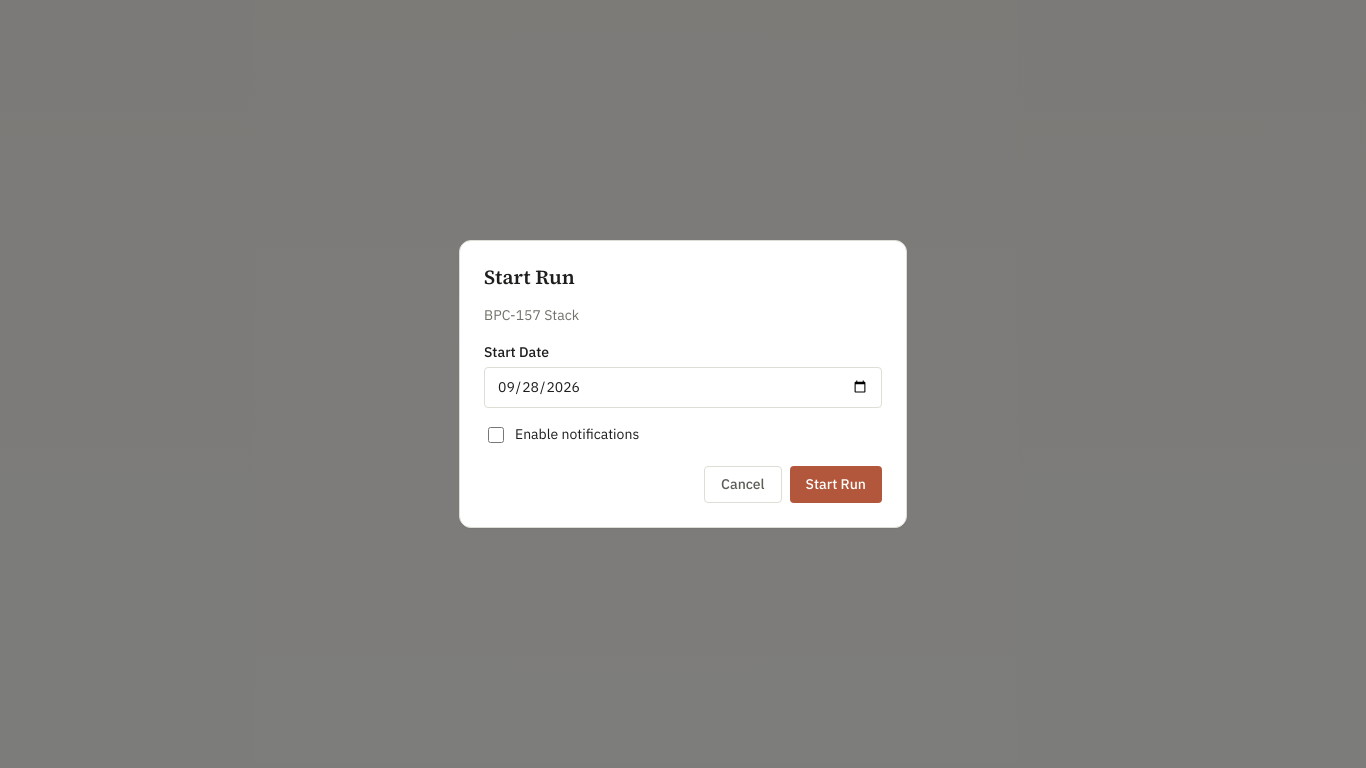
Scenario: StartRunModal › shows error on API failure
The width and height of the screenshot is (1366, 768).
Click the button "Start Run": (836, 484) x1=790 y1=466 x2=882 y2=503
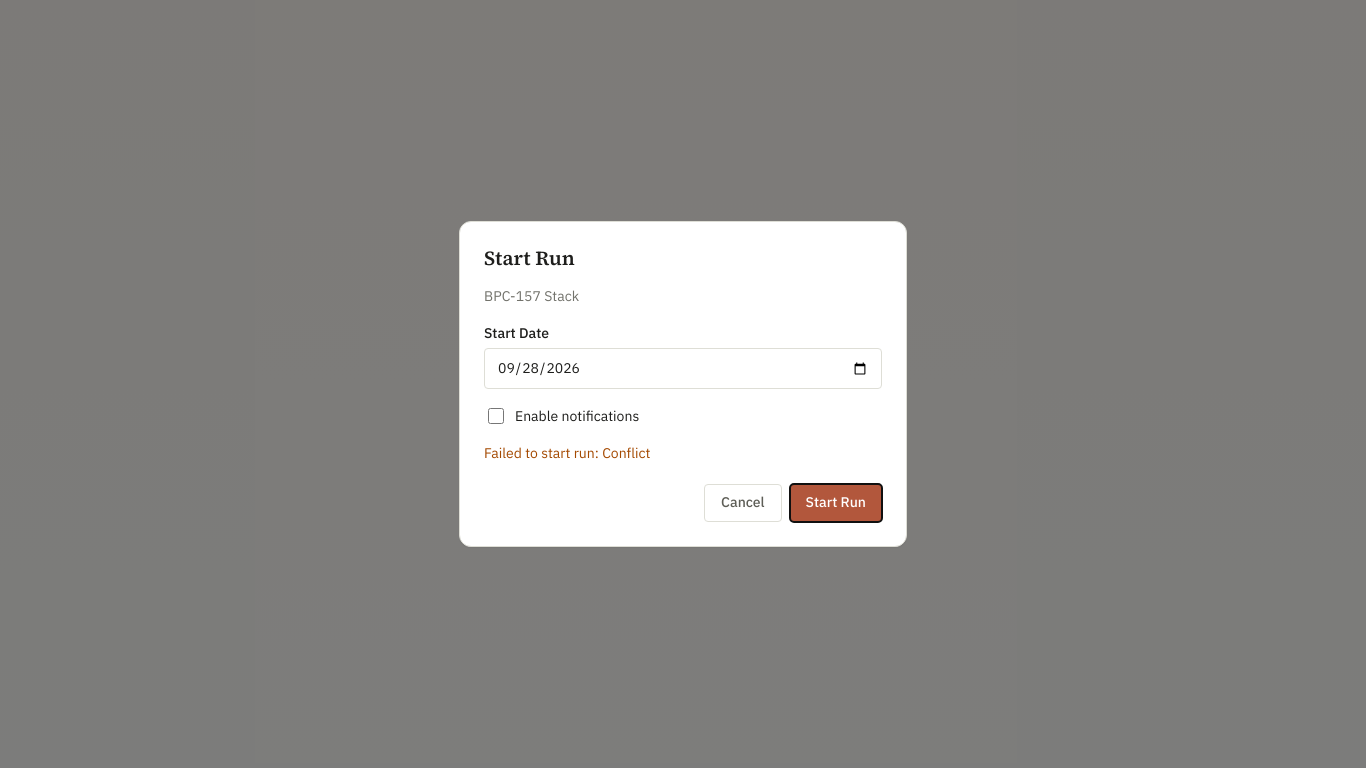
Check: the message "Failed to start run: Conflict" is shown, box x1=484 y1=444 x2=650 y2=462
Check: the message shows "Failed to start run", box x1=484 y1=444 x2=602 y2=462
